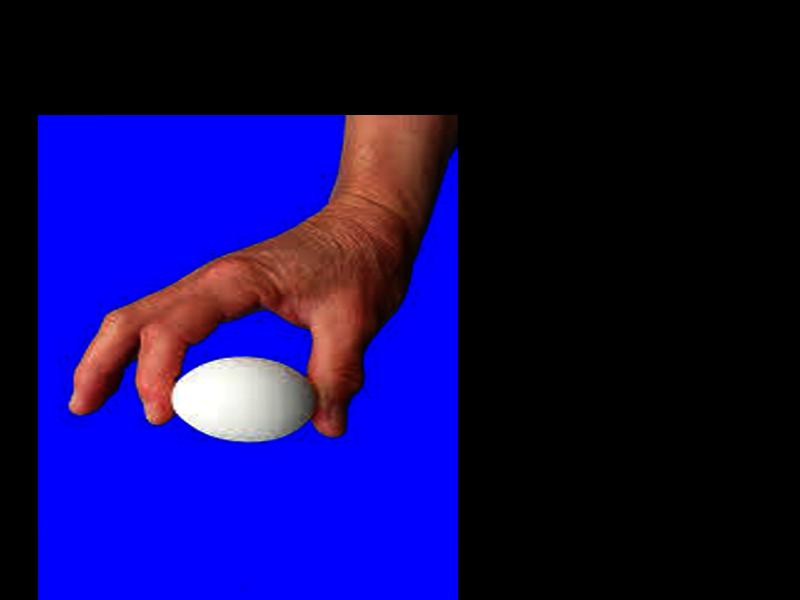Eggs: (168, 356, 315, 442)
